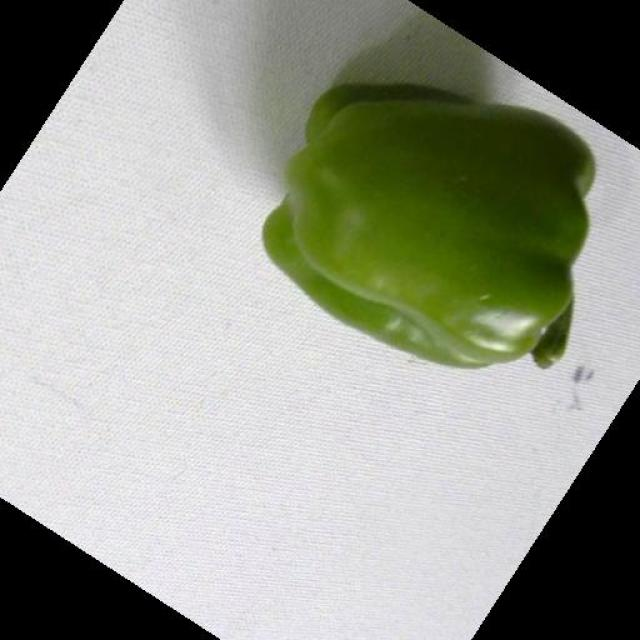Fresh_Capsicum: (280, 86, 587, 368)
